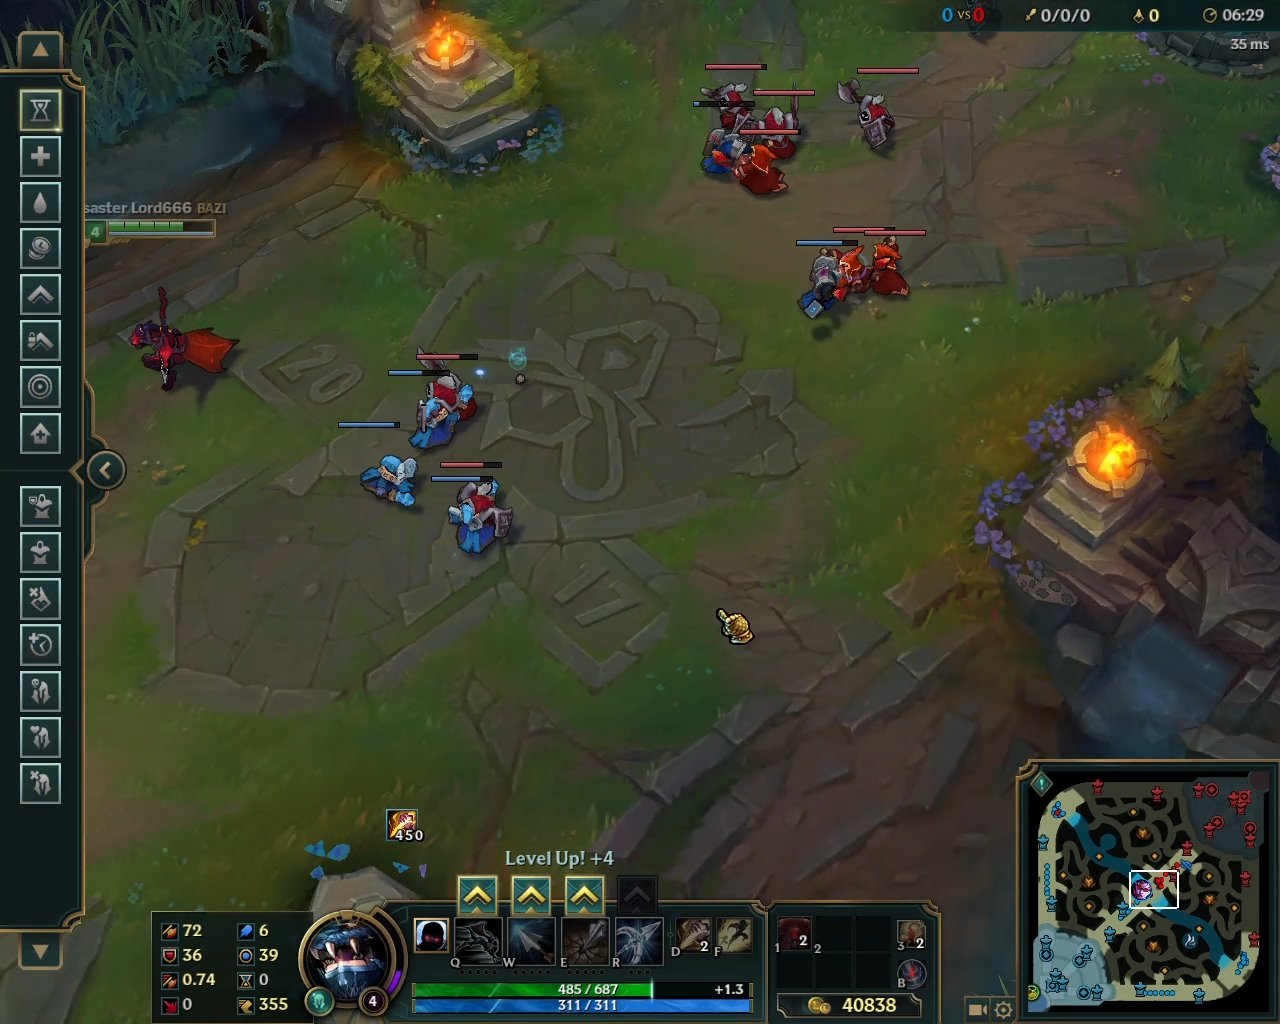EnemyMinion: (828, 65, 924, 156), (829, 228, 927, 298), (713, 129, 801, 200), (746, 82, 819, 159), (695, 65, 767, 141), (414, 352, 481, 414), (440, 461, 507, 522)
Vayne: (120, 279, 245, 397)
